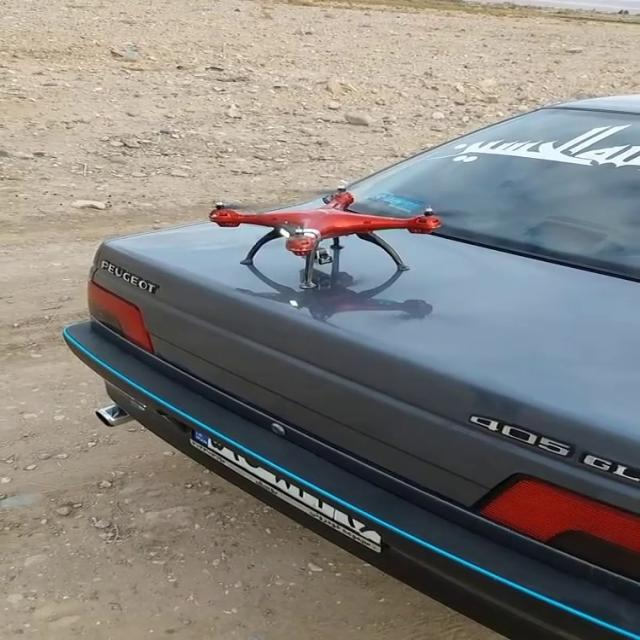drone: (202, 178, 469, 294)
